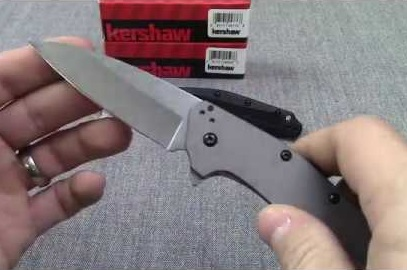knife: (17, 24, 379, 270)
